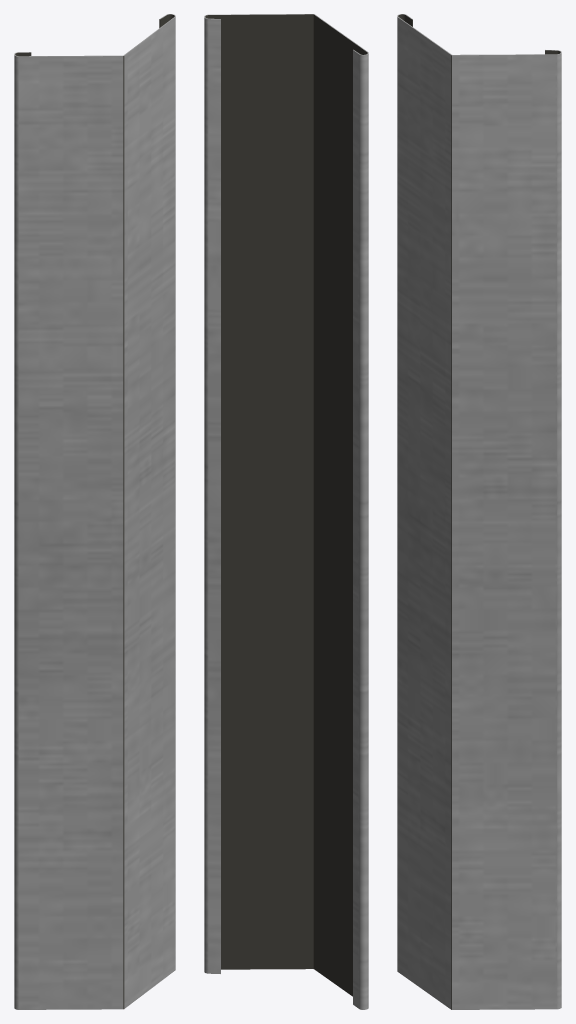
File: bande de noue.gltf
3 views of the same model, side by side, from view 1: azimuth 30°, elevation 25°; view 2: azimuth 150°, elevation 25°; view 3: azimuth 330°, elevation 25° (orthographic).
Visible parts, largest first — view 1: bande de noue; view 2: bande de noue; view 3: bande de noue.
Boxes of the visible parts, x1,y1,x2,y2 form: bande de noue: (14,14,175,1009); bande de noue: (204,14,368,1009); bande de noue: (397,14,561,1009).
Bounding box in the file's own units: 0.1774 × 1 × 0.0603.
Materials: 2 (1 with a texture image).
